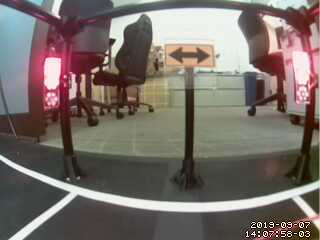Left_Right_sign: (163, 40, 218, 67)
Traffic_light_red: (294, 51, 315, 103), (45, 57, 58, 107)
